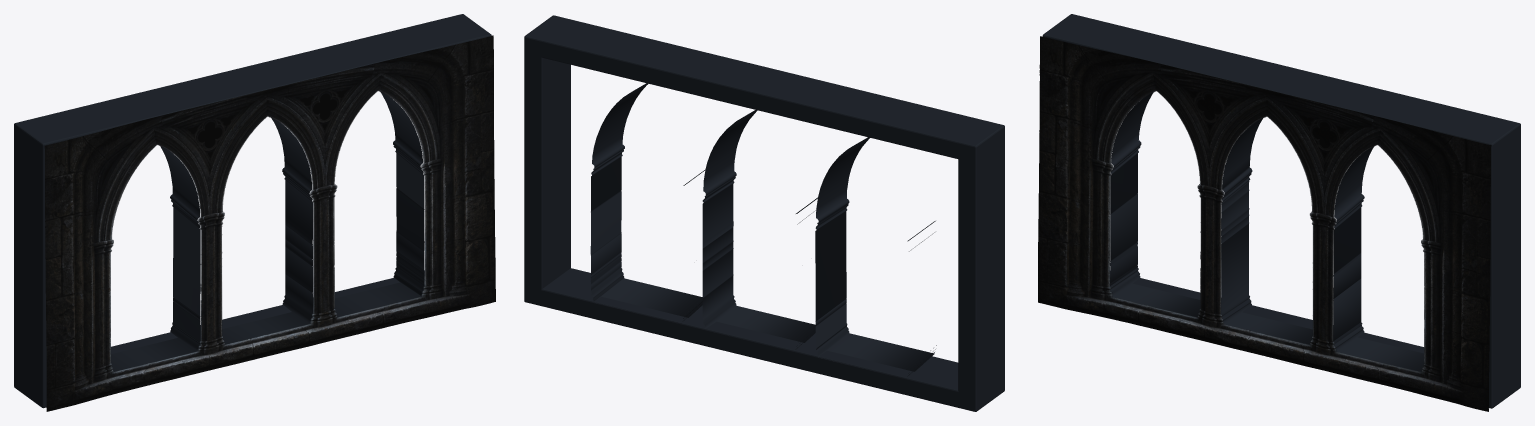
Rendered from ai_gothic_window_dark_relief.glb.
The picture shows the model from 3 angles, left to right: view 1: azimuth 30°, elevation 25°; view 2: azimuth 150°, elevation 25°; view 3: azimuth 330°, elevation 25°; orthographic projection.
Parts seen in each view (by area): view 1: AI Gothic Photoreal Front, Top wall depth, Left wall depth, Open stone reveal 3, Open stone reveal 2, Open stone reveal 1, Heavy stone sill; view 2: Top wall depth, Heavy stone sill, Left wall depth, Right wall depth, Open stone reveal 2, Open stone reveal 3, Open stone reveal 1; view 3: AI Gothic Photoreal Front, Top wall depth, Right wall depth, Open stone reveal 3, Open stone reveal 2, Open stone reveal 1, Heavy stone sill.
Part boxes in pixels (bbox=[...]): AI Gothic Photoreal Front: bbox=[44, 35, 495, 411]; Top wall depth: bbox=[14, 14, 491, 159]; Left wall depth: bbox=[14, 120, 59, 407]; Open stone reveal 3: bbox=[309, 92, 424, 317]; Open stone reveal 2: bbox=[110, 146, 200, 371]; Open stone reveal 1: bbox=[197, 118, 312, 344]; Heavy stone sill: bbox=[14, 270, 424, 408]; Top wall depth: bbox=[524, 15, 1004, 162]; Heavy stone sill: bbox=[524, 268, 1004, 411]; Left wall depth: bbox=[958, 121, 1004, 411]; Right wall depth: bbox=[524, 38, 570, 305]; Open stone reveal 2: bbox=[815, 137, 936, 378]; Open stone reveal 3: bbox=[590, 83, 704, 323]; Open stone reveal 1: bbox=[702, 110, 817, 349]; AI Gothic Photoreal Front: bbox=[1038, 36, 1491, 411]; Top wall depth: bbox=[1042, 14, 1520, 160]; Right wall depth: bbox=[1475, 120, 1520, 408]; Open stone reveal 3: bbox=[1333, 146, 1424, 371]; Open stone reveal 2: bbox=[1109, 93, 1200, 317]; Open stone reveal 1: bbox=[1221, 118, 1312, 344]; Heavy stone sill: bbox=[1110, 271, 1520, 408].
Size of the model in its own units: 6.4 by 3.6 by 0.82.
2 materials, 1 textured.
